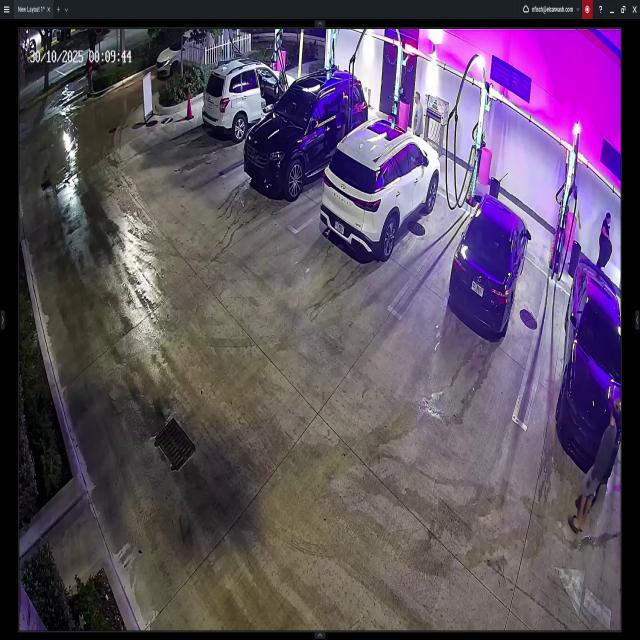Car: (325, 122, 439, 258), (247, 71, 367, 194), (558, 262, 620, 479), (449, 187, 522, 340), (198, 56, 296, 139), (150, 27, 198, 72)
